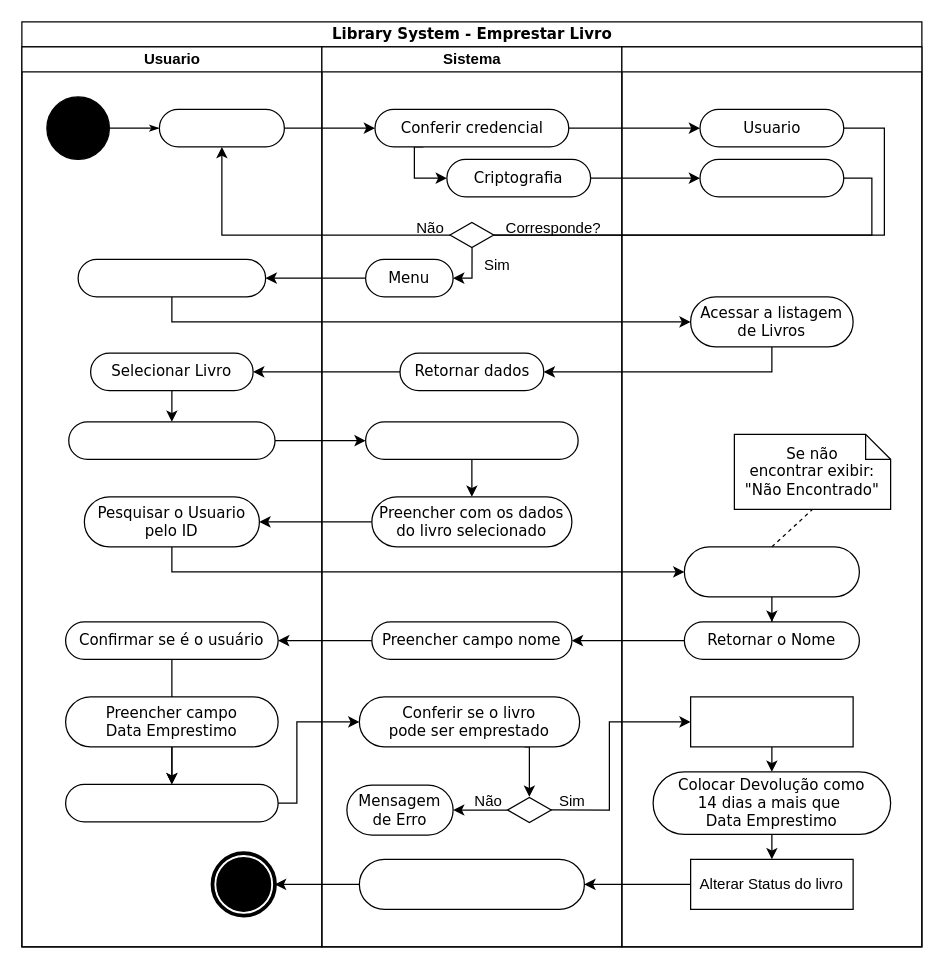
Image size: 944x969. Some labels were removed from this diagram. The box of each missing label's shape, as (x1, y1, x2, y2) in pixels:
Abrir Alterar Status: (364, 421, 578, 459)
Base de dados: (621, 46, 922, 947)
Clicar em Alterar Status: (68, 421, 275, 459)
Clicar em Emprestar: (64, 783, 278, 822)
Encontrar o Usuário pelo Id: (683, 546, 859, 597)
Listagem de Livros: (77, 258, 266, 297)
Login: (158, 108, 284, 147)
Mensagem de livro emprestado com sucesso: (358, 858, 584, 909)
Novo Emprestimo: (689, 696, 853, 747)
Senha: (699, 158, 844, 197)
